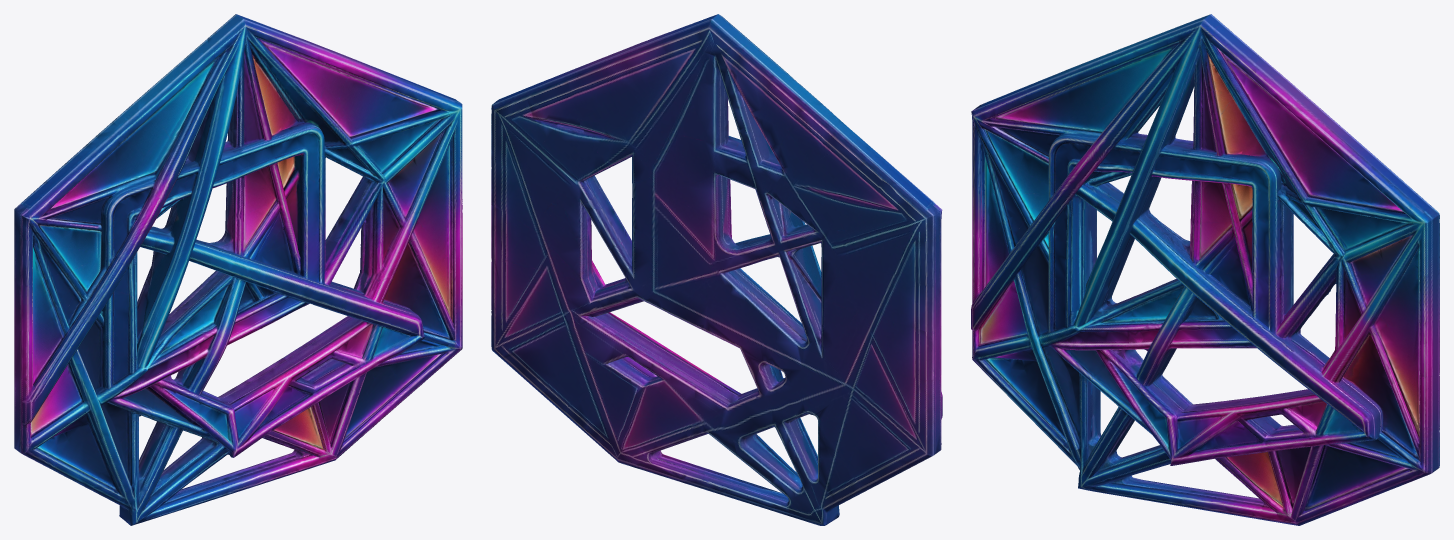
The model's file is crystal.glb.
3 views of the same model, side by side, from view 1: azimuth 30°, elevation 25°; view 2: azimuth 150°, elevation 25°; view 3: azimuth 330°, elevation 25° (orthographic). The views are drawn at different scales.
Bounding box in the file's own units: 1.84 × 1.9 × 0.1736.
Materials: 1 (1 with a texture image).
